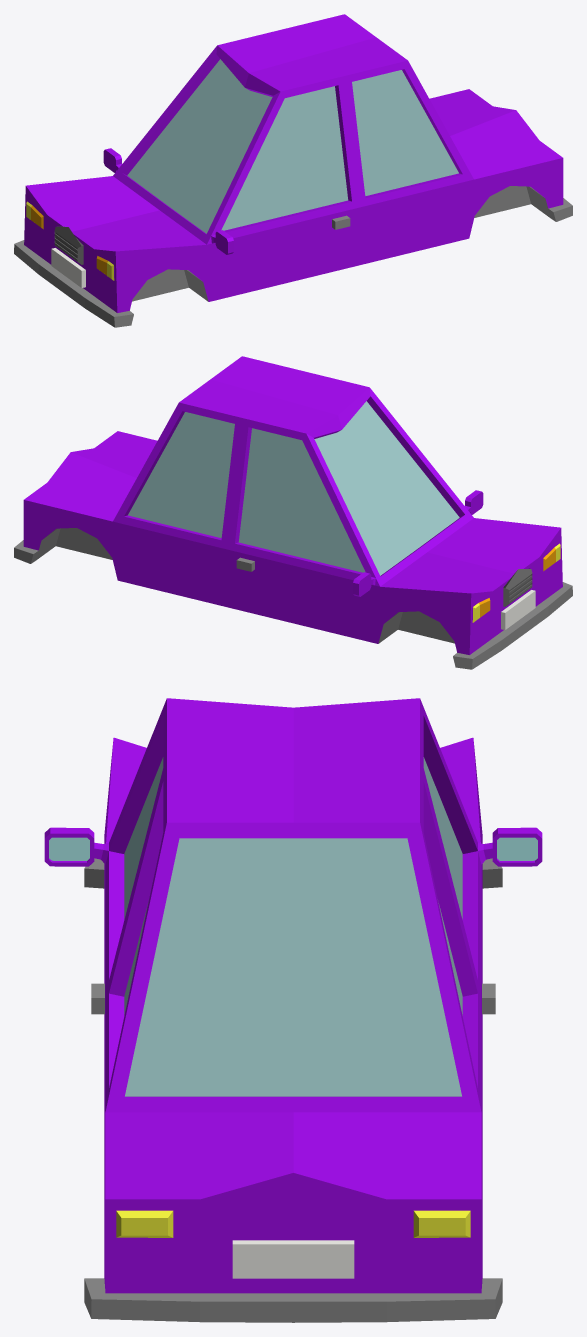
File: carBig.fbx
The picture shows the model from 3 angles, top to bottom: view 1: azimuth 30°, elevation 25°; view 2: azimuth 150°, elevation 25°; view 3: azimuth 270°, elevation 25°; orthographic projection. The views are drawn at different scales.
Visible parts, largest first — view 1: carBig; view 2: carBig; view 3: carBig.
Boxes of the visible parts, box(x1,y1,x2,y2) form: carBig: box(14, 14, 572, 327); carBig: box(14, 356, 572, 669); carBig: box(44, 698, 542, 1322).
Size of the model in its own units: 639 by 504 by 1373.
